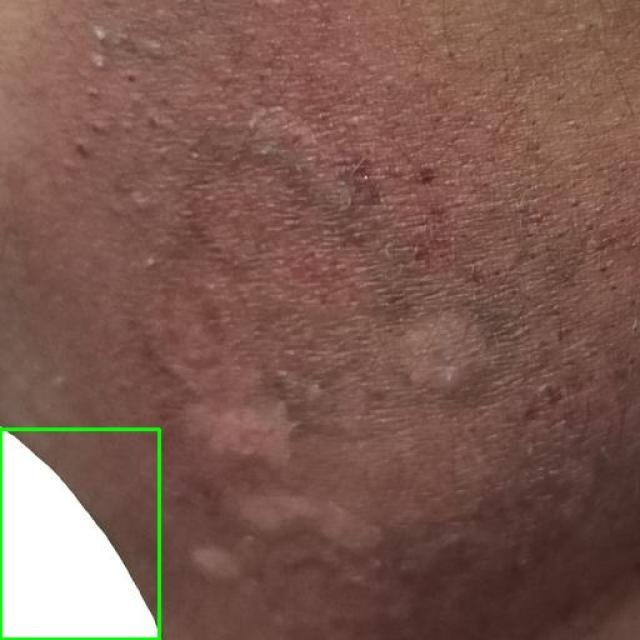Eczema: (0, 429, 159, 639)
